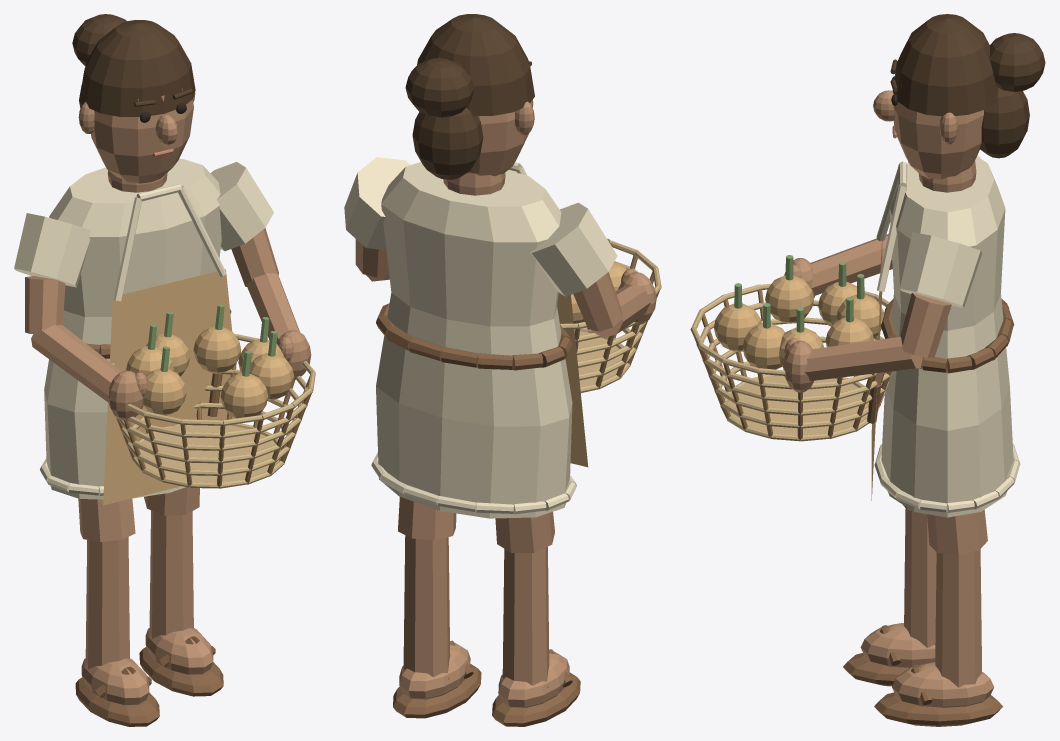
The picture shows the model from 3 angles, left to right: view 1: azimuth 30°, elevation 25°; view 2: azimuth 150°, elevation 25°; view 3: azimuth 270°, elevation 25°; orthographic projection. The views are drawn at different scales.
Parts seen in each view (by area): view 1: BA-0081 Ranch produce seller batched; view 2: BA-0081 Ranch produce seller batched; view 3: BA-0081 Ranch produce seller batched.
Part boxes in pixels (box(x1,y1,x2,y2)): BA-0081 Ranch produce seller batched: box(14, 14, 315, 726); BA-0081 Ranch produce seller batched: box(344, 14, 661, 726); BA-0081 Ranch produce seller batched: box(690, 14, 1045, 726).
Bounding box in the file's own units: 0.6675 × 1.69 × 0.7969.
